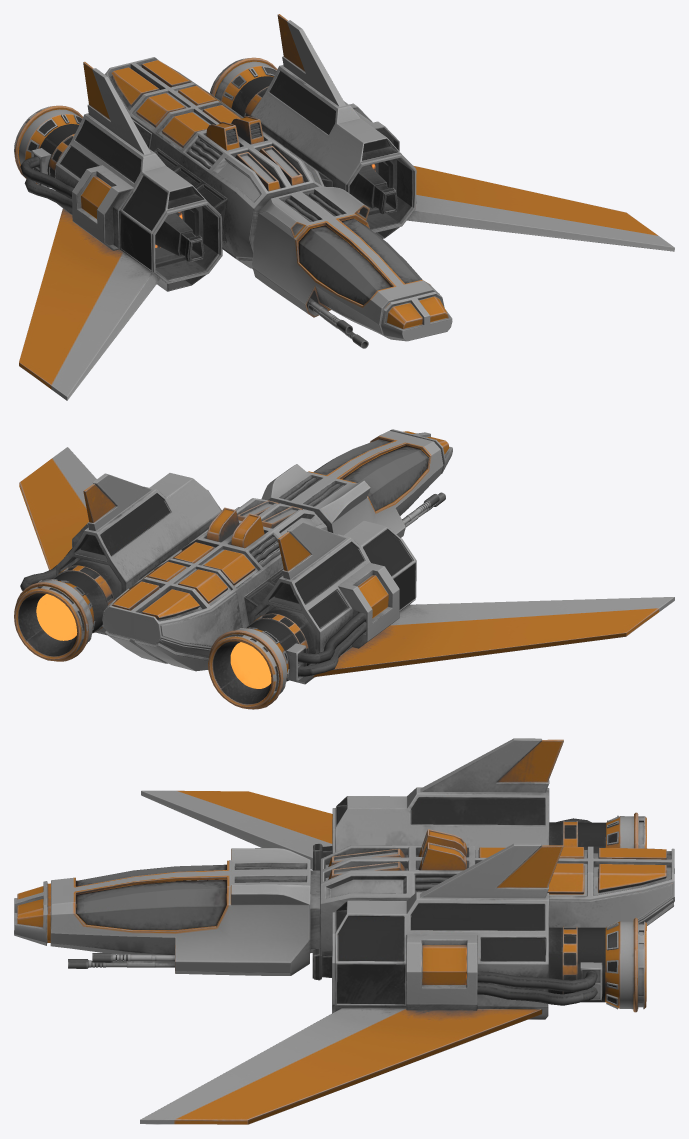
File: spaceship-draco.glb
The picture shows the model from 3 angles, top to bottom: view 1: azimuth 30°, elevation 25°; view 2: azimuth 150°, elevation 25°; view 3: azimuth 270°, elevation 25°; orthographic projection. The views are drawn at different scales.
Parts seen in each view (by area): view 1: Starship; view 2: Starship; view 3: Starship.
Boxes of the visible parts, bbox=[...] form: Starship: bbox=[14, 14, 674, 400]; Starship: bbox=[14, 429, 674, 709]; Starship: bbox=[14, 738, 674, 1124].
Size of the model in its own units: 25.92 by 6.51 by 21.89.
1 material, 1 textured.
